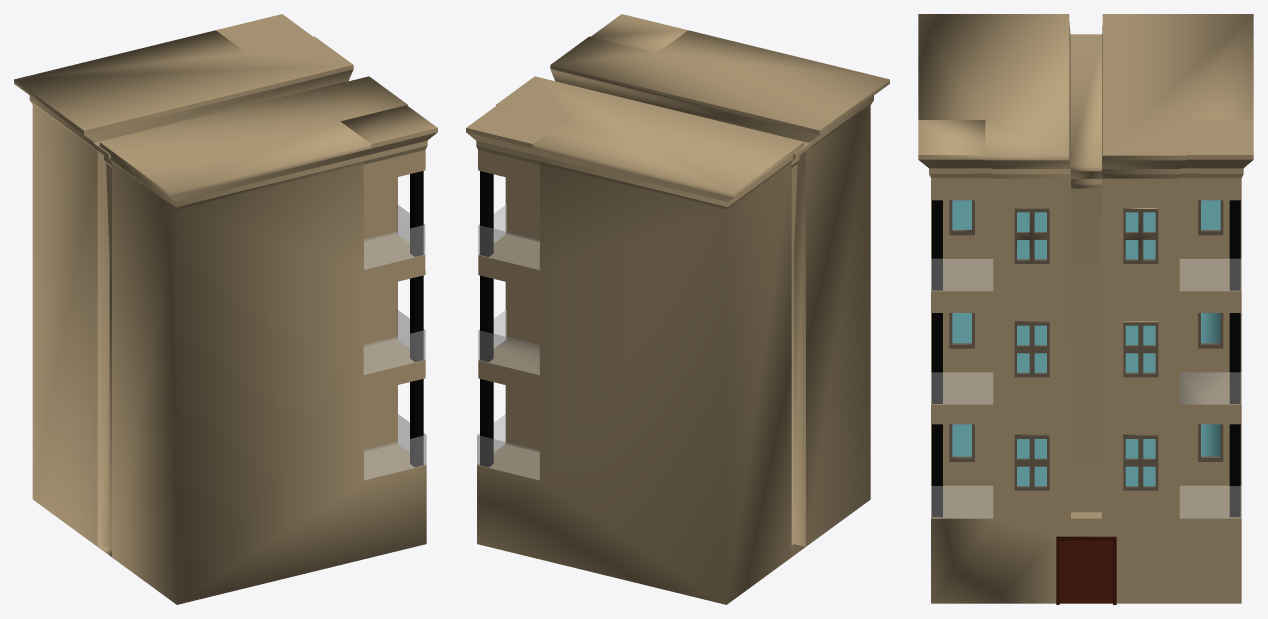
The picture shows the model from 3 angles, left to right: view 1: azimuth 30°, elevation 25°; view 2: azimuth 150°, elevation 25°; view 3: azimuth 270°, elevation 25°; orthographic projection. The views are drawn at different scales.
Parts seen in each view (by area): view 1: Cube; view 2: Cube; view 3: Cube.
Boxes of the visible parts, left/top/right/bottom form: Cube: left=14, top=14, right=437, bottom=604; Cube: left=466, top=14, right=889, bottom=604; Cube: left=918, top=14, right=1253, bottom=604.
Size of the model in its own units: 572 by 850 by 572.
